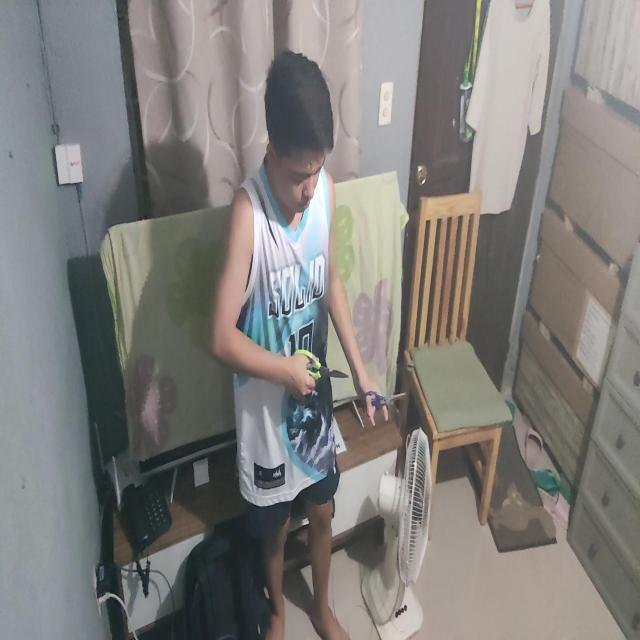scissor: (292, 348, 349, 384), (363, 390, 408, 415)
